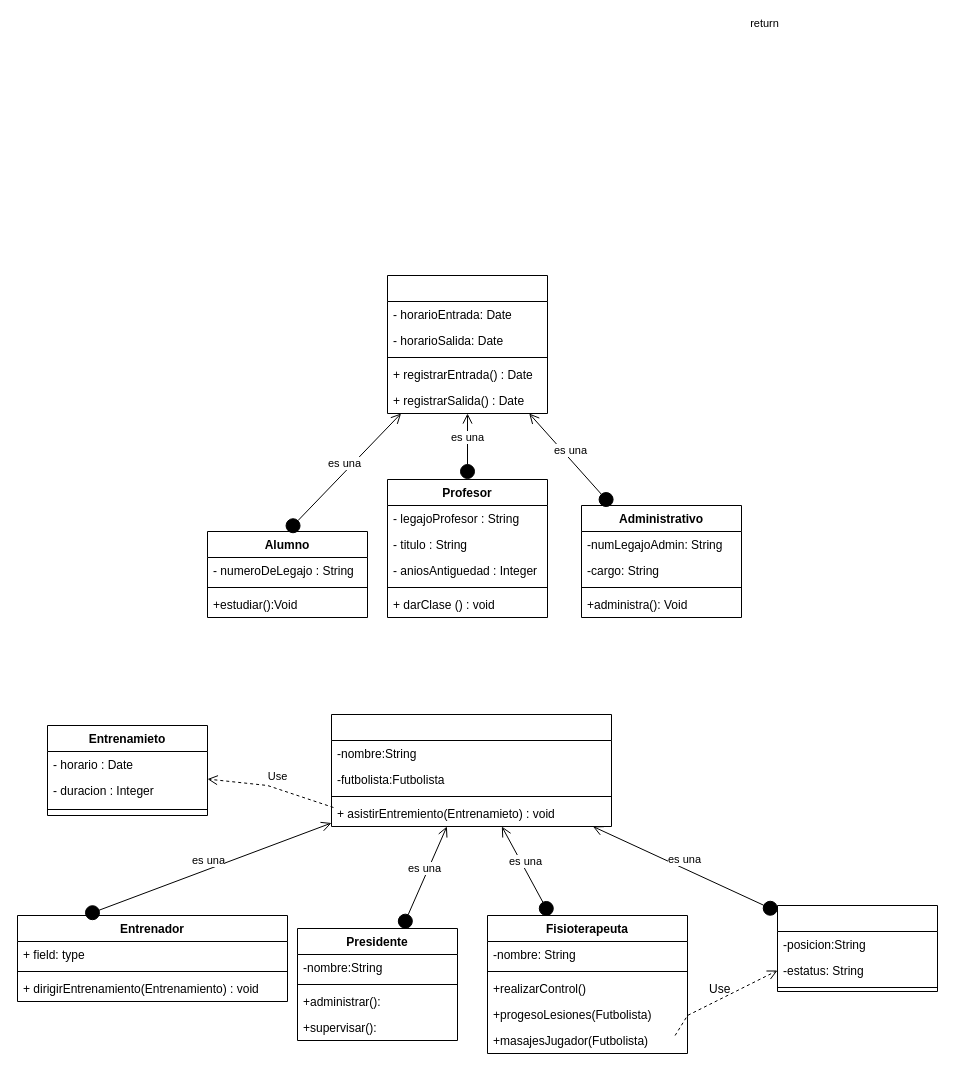
The diagram is 955 pixels wide and 1074 high, and some of its shapes have lost their labels. The shapes that lost their labels are listed below. From the top down, each one's box as (x1, y1, x2, y2) in pixels, then its label:
(386, 274, 548, 414): Persona
(330, 714, 612, 826): PersonaPlantel
(776, 904, 938, 992): Futbolista
